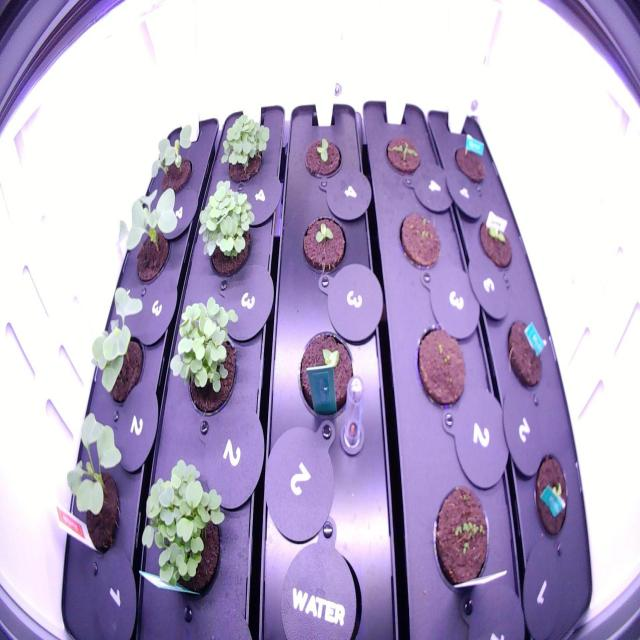germination: (139, 455, 232, 616), (62, 408, 128, 566), (167, 292, 245, 422), (427, 476, 494, 605), (88, 283, 149, 411), (288, 324, 361, 425), (118, 181, 186, 286), (194, 172, 260, 280), (412, 320, 471, 414), (215, 104, 274, 188), (530, 446, 576, 544), (146, 120, 198, 199), (296, 207, 351, 277), (395, 203, 445, 277), (471, 210, 517, 272), (299, 131, 347, 186), (380, 127, 426, 184)
pod: (502, 312, 548, 396), (452, 139, 488, 193)
